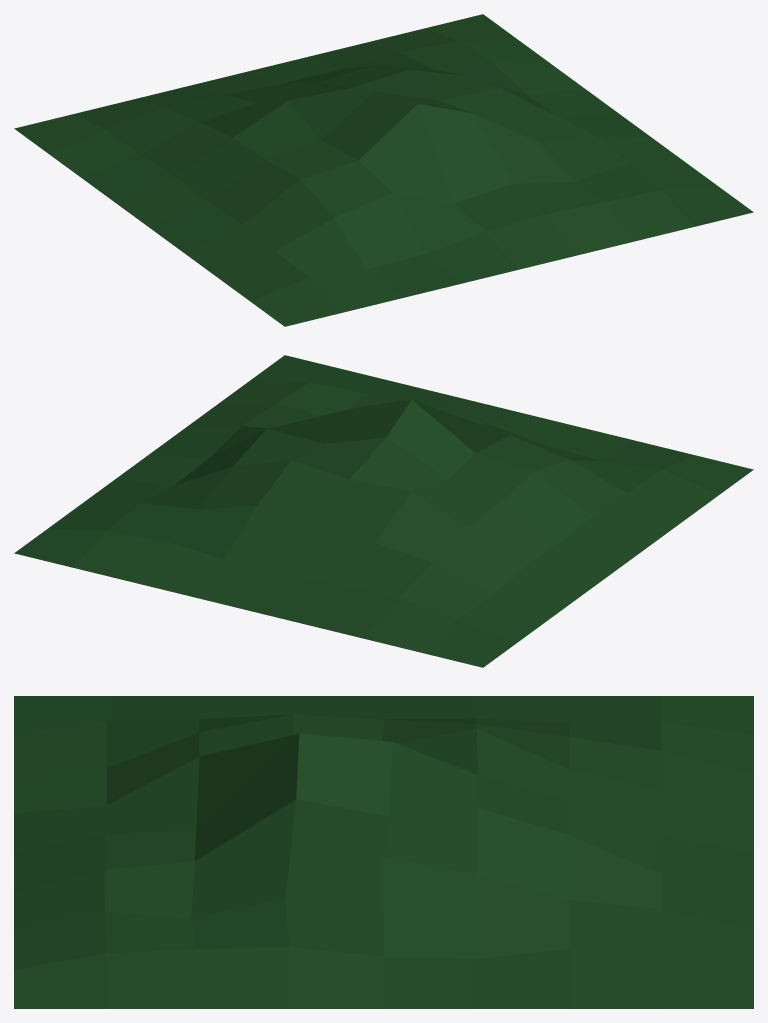
File: Terrain_10_Dark_Green.fbx
3 renders of one model, top to bottom at view 1: azimuth 30°, elevation 25°; view 2: azimuth 150°, elevation 25°; view 3: azimuth 270°, elevation 25°, orthographic. The views are drawn at different scales.
Visible parts, largest first — view 1: Terrain_10_Dark_Green; view 2: Terrain_10_Dark_Green; view 3: Terrain_10_Dark_Green.
Boxes of the visible parts, bbox=[...] form: Terrain_10_Dark_Green: bbox=[14, 14, 753, 326]; Terrain_10_Dark_Green: bbox=[14, 355, 753, 667]; Terrain_10_Dark_Green: bbox=[14, 696, 753, 1008].
Bounding box in the file's own units: 5000 × 902 × 5000.
